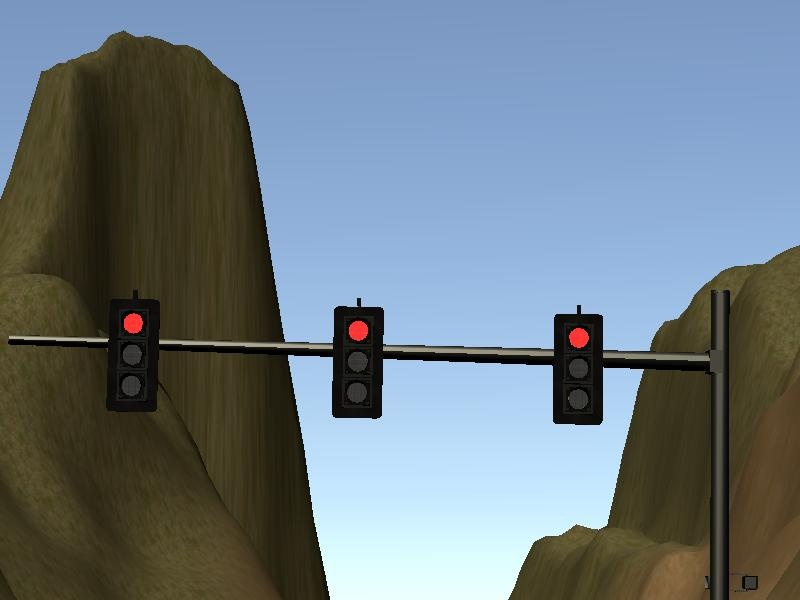RED: (104, 297, 160, 415), (330, 303, 386, 421), (551, 311, 607, 429)
